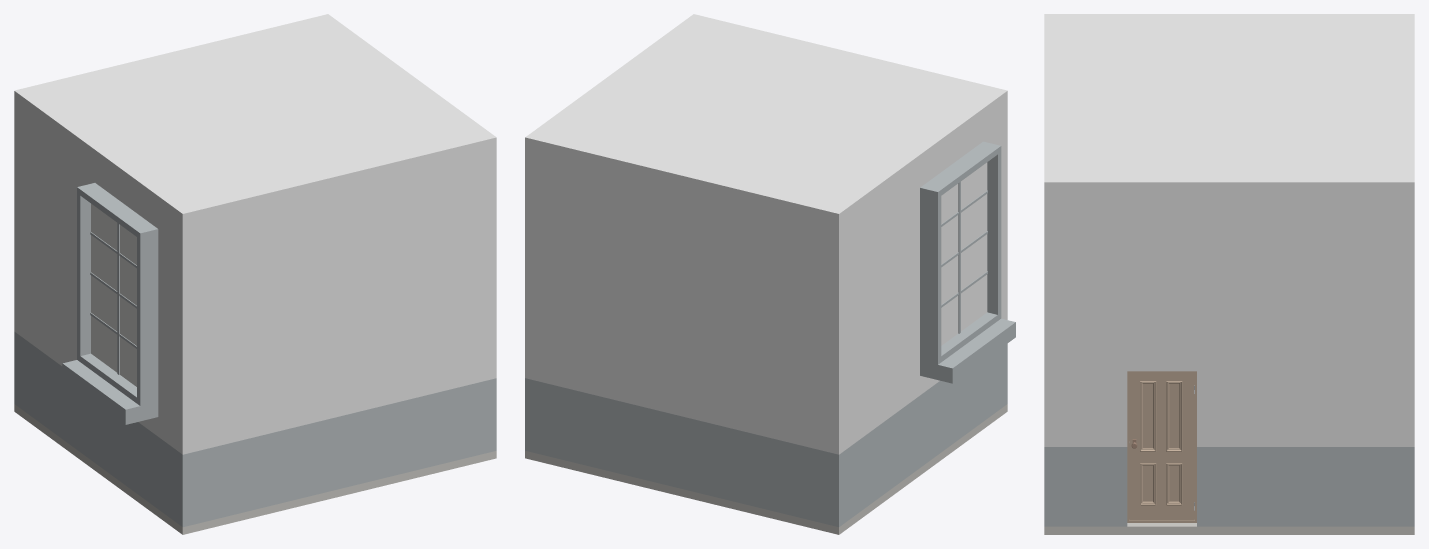
Rendered from 882_private_room.glb.
3 renders of one model, left to right at view 1: azimuth 30°, elevation 25°; view 2: azimuth 150°, elevation 25°; view 3: azimuth 270°, elevation 25°, orthographic. The views are drawn at different scales.
Parts seen in each view (by area): view 1: kabe3, 天井, kabe4, 床; view 2: kabe1, 天井, kabe4, 床; view 3: kabe2, 天井, 戸, kabe3, 床, kabe1.
Boxes of the visible parts, bbox=[...] form: kabe3: bbox=[182, 145, 496, 527]; 天井: bbox=[14, 14, 496, 221]; kabe4: bbox=[14, 98, 193, 526]; 床: bbox=[14, 404, 496, 534]; kabe1: bbox=[525, 145, 844, 527]; 天井: bbox=[525, 14, 1007, 221]; kabe4: bbox=[831, 98, 1015, 526]; 床: bbox=[525, 404, 1007, 534]; kabe2: bbox=[1044, 190, 1413, 526]; 天井: bbox=[1044, 14, 1414, 190]; 戸: bbox=[1129, 371, 1194, 520]; kabe3: bbox=[1044, 190, 1057, 526]; 床: bbox=[1044, 523, 1414, 534]; kabe1: bbox=[1401, 190, 1414, 526].
Size of the model in its own units: 4.75 by 4.2 by 4.
